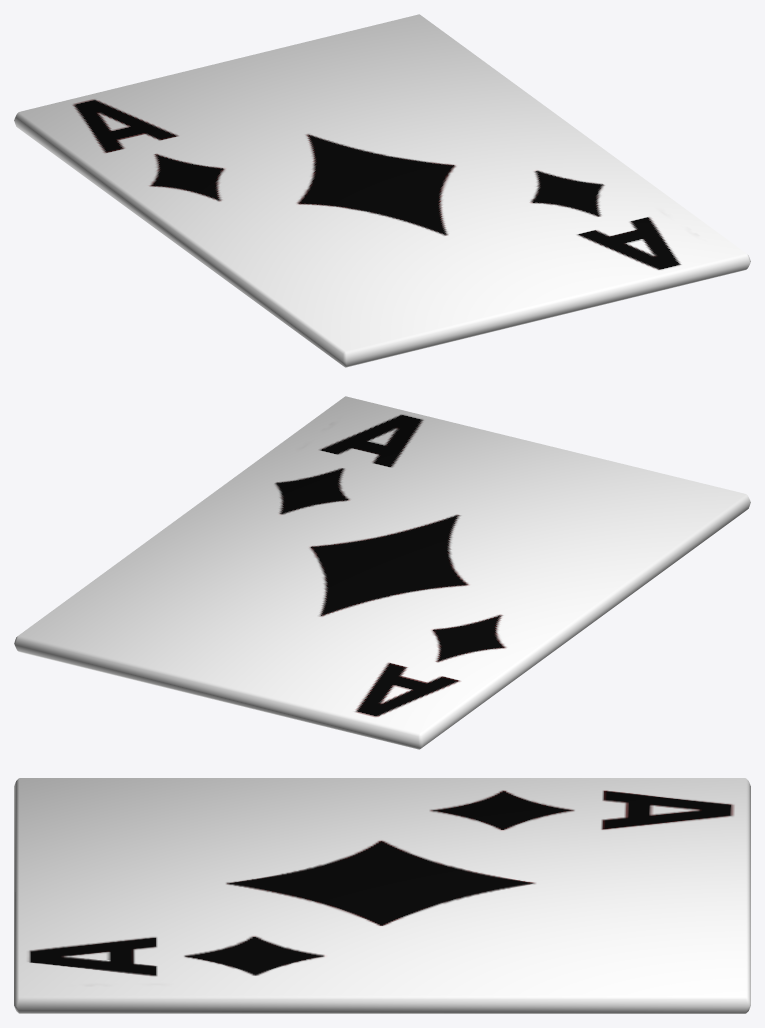
File: card.fbx
3 views of the same model, one above another, from view 1: azimuth 30°, elevation 25°; view 2: azimuth 150°, elevation 25°; view 3: azimuth 270°, elevation 25° (orthographic). The views are drawn at different scales.
Parts seen in each view (by area): view 1: card; view 2: card; view 3: card.
Boxes of the visible parts, box(x1,y1,x2,y2) form: card: box(14, 14, 750, 367); card: box(14, 396, 750, 749); card: box(14, 778, 750, 1013).
Size of the model in its own units: 74.18 by 2.87 by 104.
